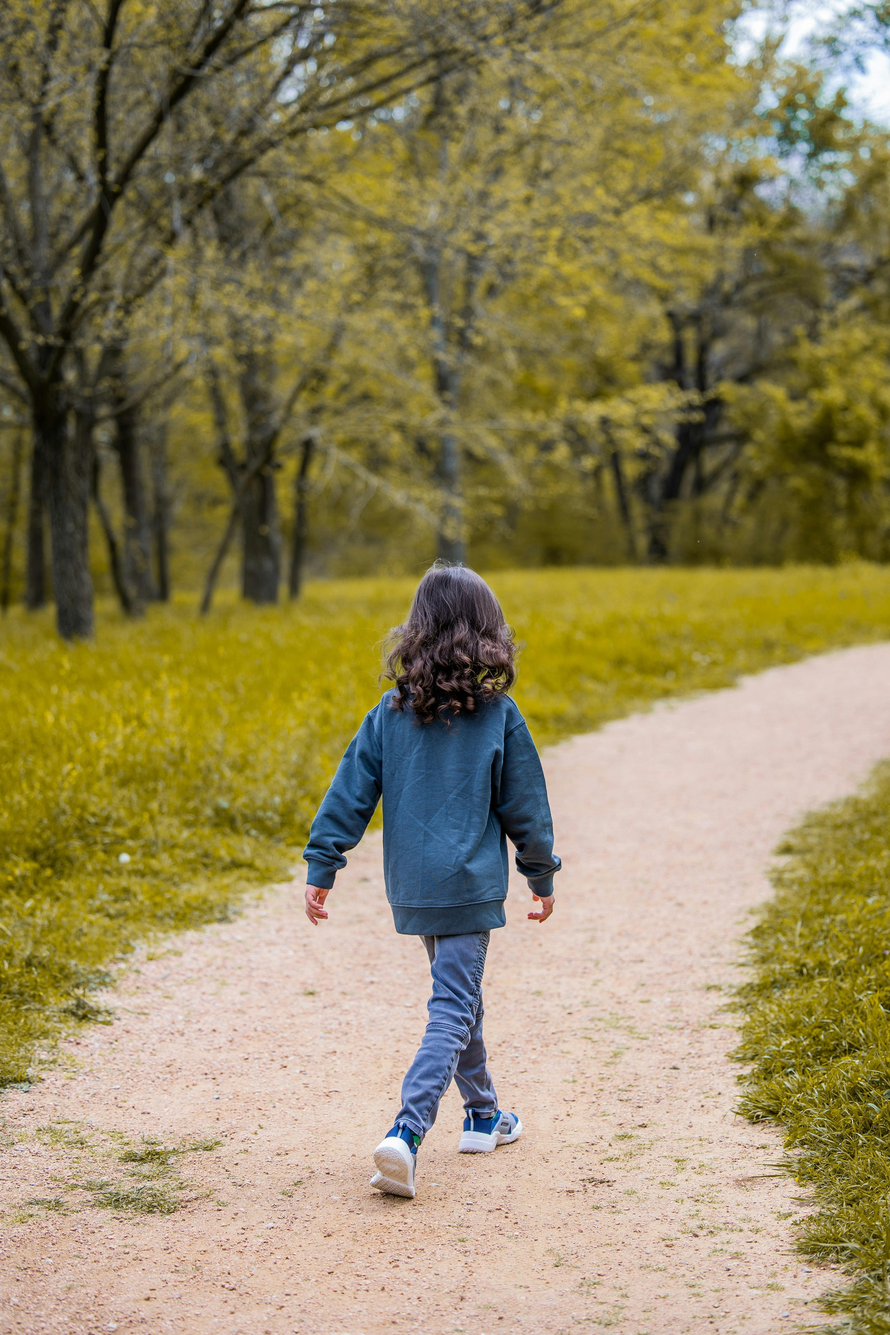Human: (245, 550, 637, 1252)
